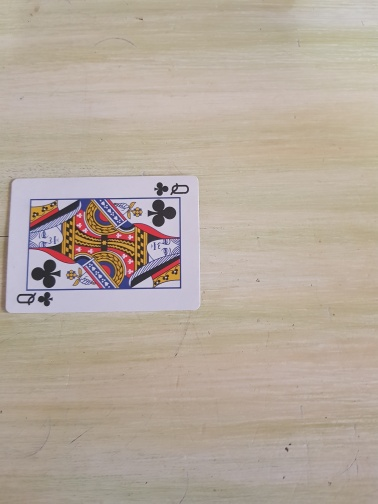queen: (5, 175, 202, 314)
